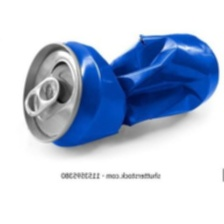can: (17, 27, 221, 152)
